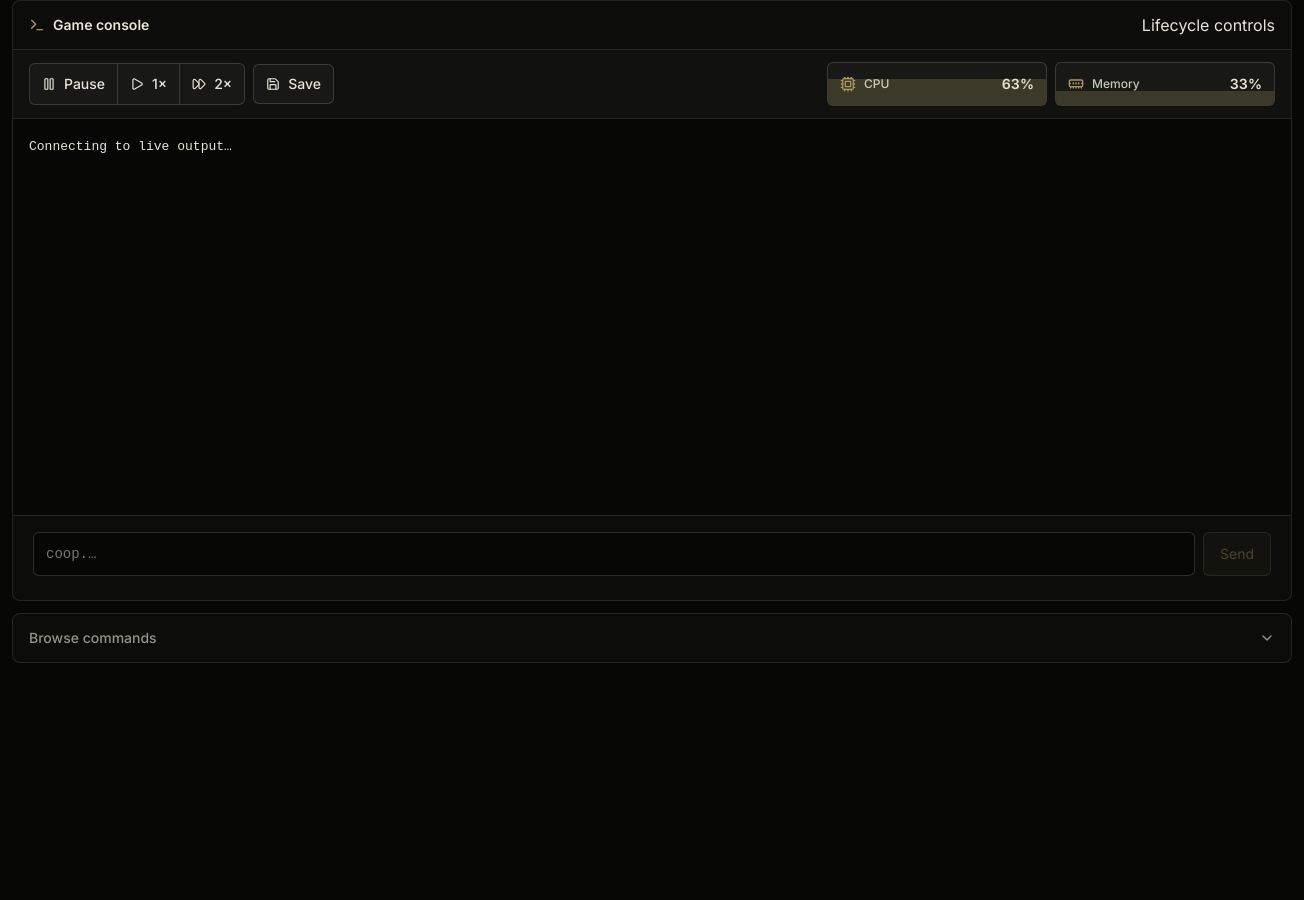
reports a rejected command without changing the selected speed
Click the button "Pause" at [74, 84], box [30,64,118,104]
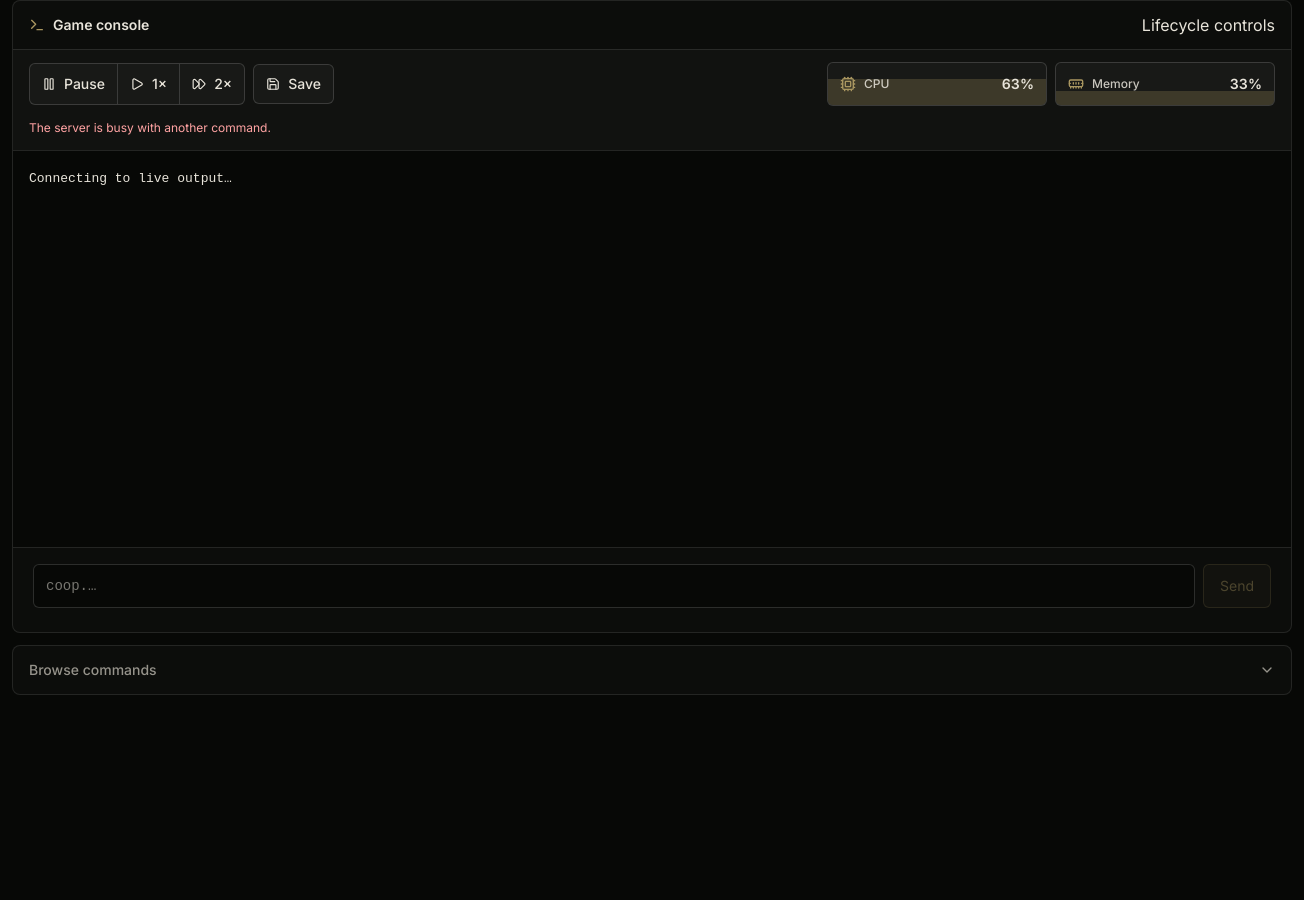
Now the message "The server is busy with another command." is shown, box [29,118,271,138]
